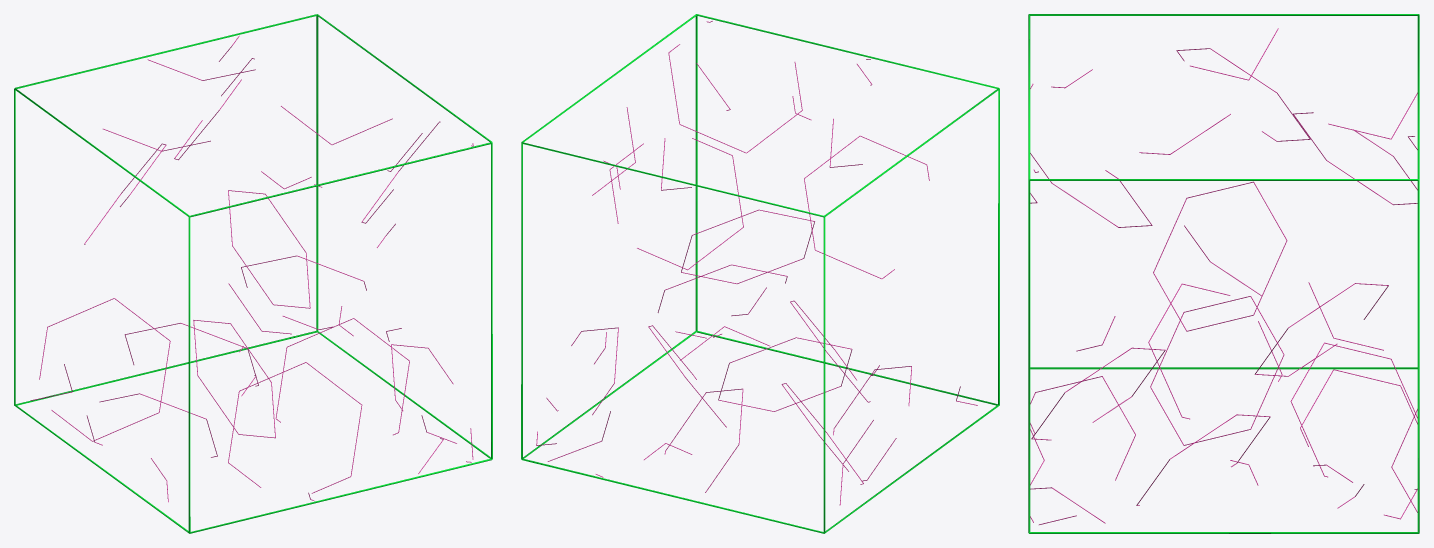
File: ddd000.glb
3 renders of one model, left to right at view 1: azimuth 30°, elevation 25°; view 2: azimuth 150°, elevation 25°; view 3: azimuth 270°, elevation 25°, orthographic. The views are drawn at different scales.
Visible parts, largest first — view 1: Shape_IndexedLineSet, Shape_IndexedLineSet.001; view 2: Shape_IndexedLineSet, Shape_IndexedLineSet.001; view 3: Shape_IndexedLineSet, Shape_IndexedLineSet.001.
Part boxes in pixels (<box>): Shape_IndexedLineSet: <box>14,14,492,533</box>; Shape_IndexedLineSet.001: <box>30,35,473,502</box>; Shape_IndexedLineSet: <box>521,14,999,533</box>; Shape_IndexedLineSet.001: <box>536,21,977,505</box>; Shape_IndexedLineSet: <box>1028,14,1419,533</box>; Shape_IndexedLineSet.001: <box>1030,28,1417,524</box>.
Size of the model in its own units: 10.06 by 10.06 by 10.05.
